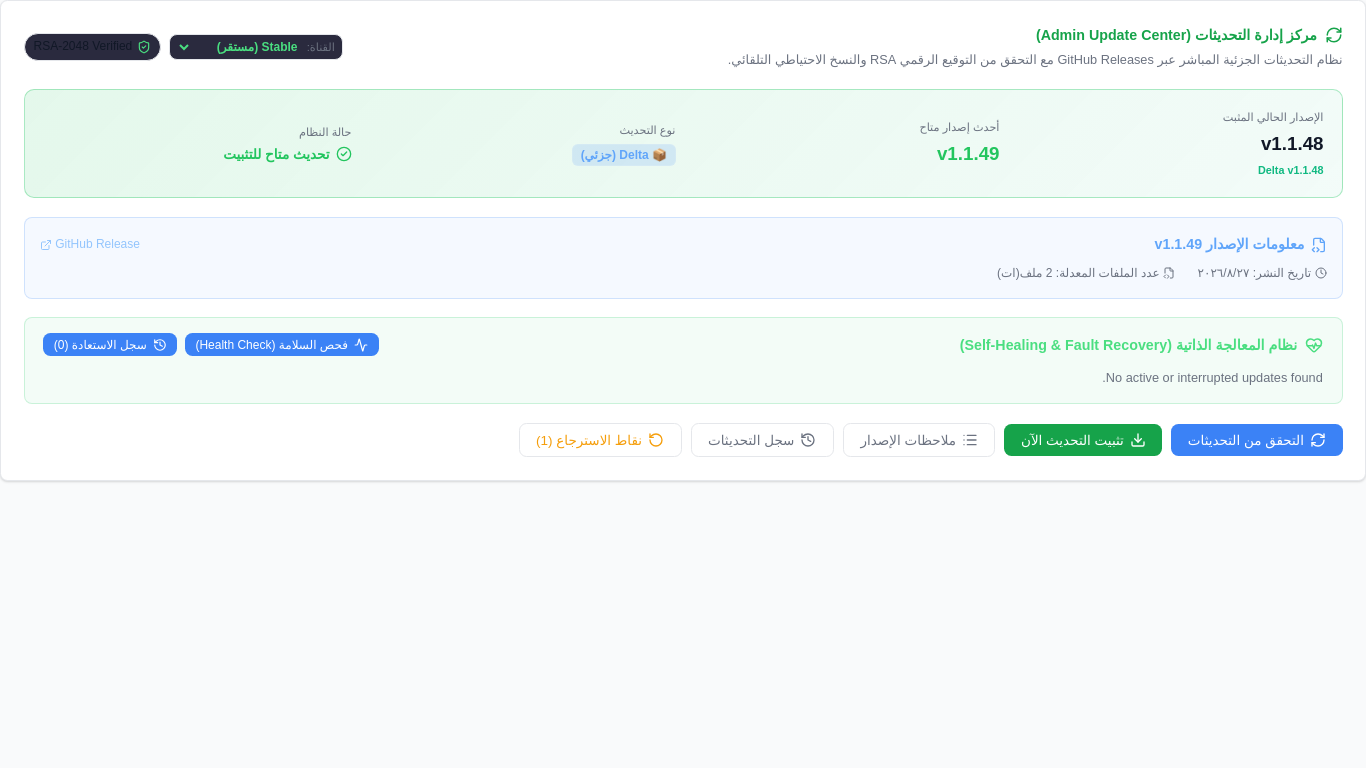
Test: UpdateSection Admin Update Center Flow › displays update history table when history button is clicked
This screenshot has width=1366, height=768.
Click the button "سجل التحديثات" at x=762, y=440, box [690,423,834,457]
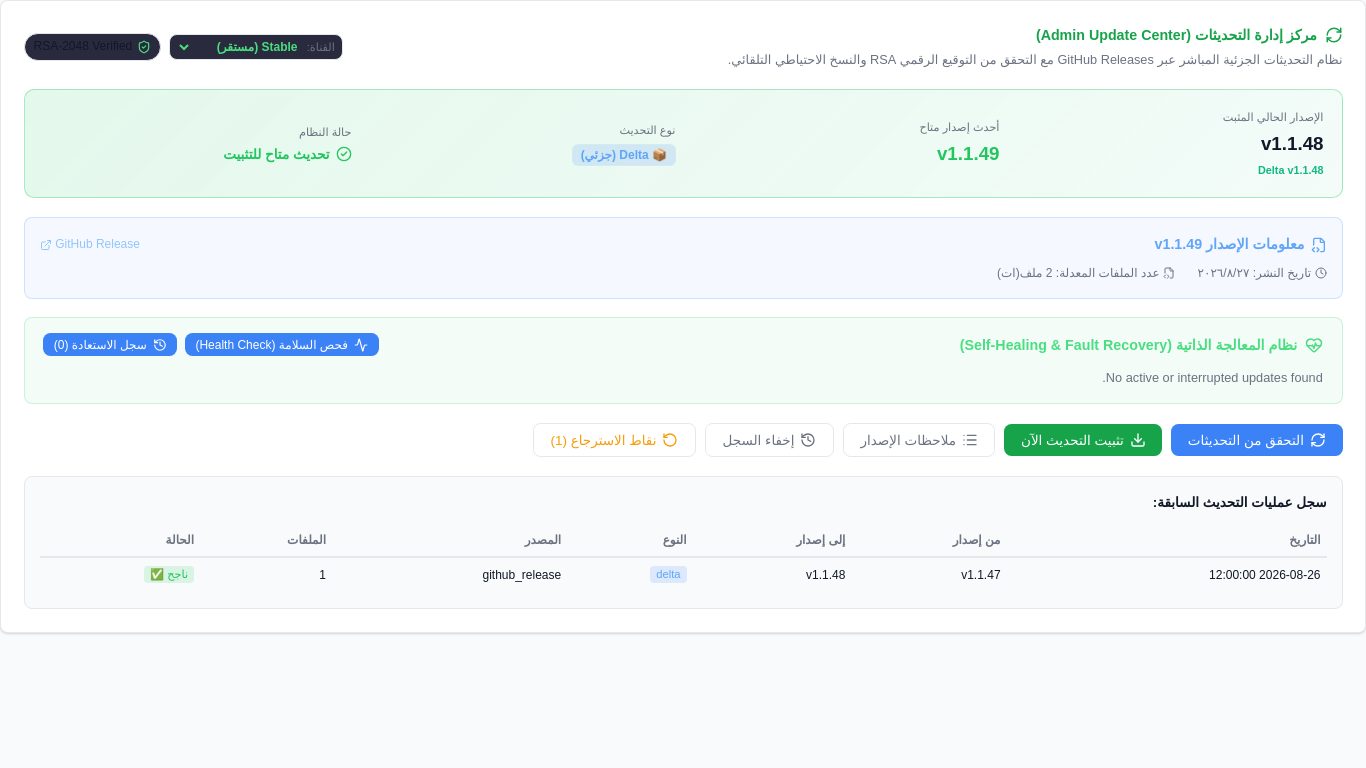
Expected: the text "سجل عمليات التحديث السابقة" is shown, [1153,495,1326,510]
Expected: the text "v1.1.47" is shown, [851,557,1006,593]
Expected: the text "ناجح ✅" is shown, [144,566,194,583]
